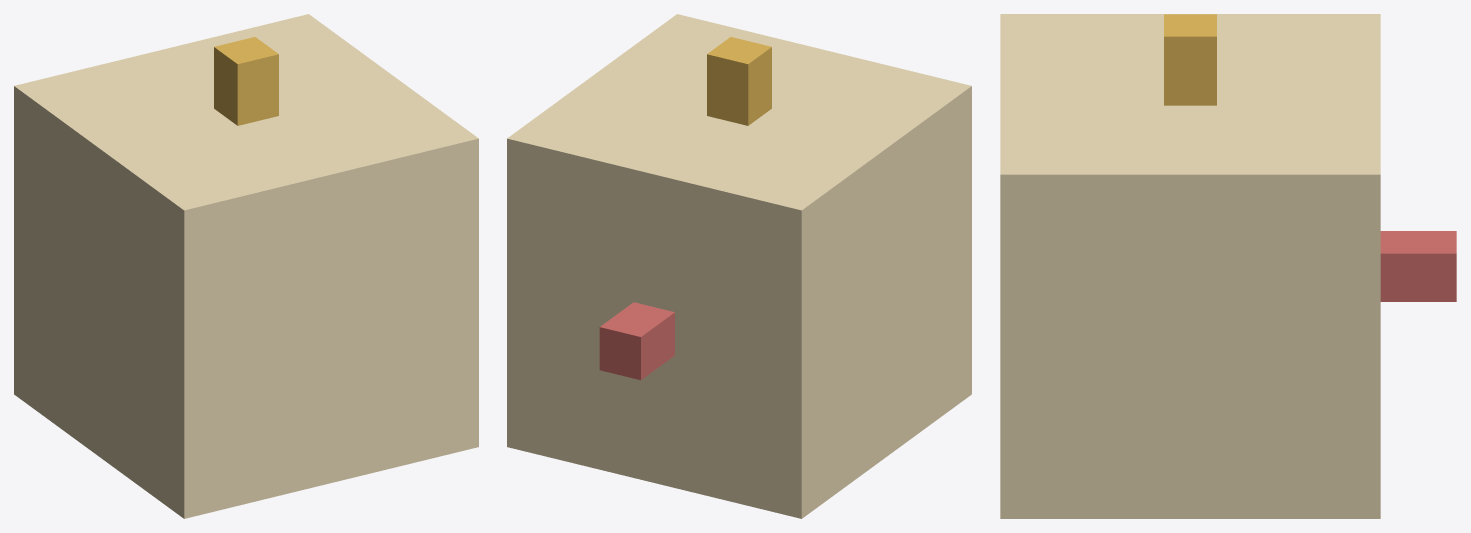
Rendered from SM_CalibrationCube.fbx.
3 views of the same model, side by side, from view 1: azimuth 30°, elevation 25°; view 2: azimuth 150°, elevation 25°; view 3: azimuth 270°, elevation 25° (orthographic). The views are drawn at different scales.
Parts seen in each view (by area): view 1: CalibrationCube, UpMarker; view 2: CalibrationCube, UpMarker, FrontMarker; view 3: CalibrationCube, FrontMarker, UpMarker.
Boxes of the visible parts, x1,y1,x2,y2 form: CalibrationCube: [14, 14, 478, 518]; UpMarker: [214, 37, 278, 125]; CalibrationCube: [507, 14, 971, 518]; UpMarker: [707, 37, 771, 125]; FrontMarker: [599, 302, 674, 380]; CalibrationCube: [1000, 14, 1380, 518]; FrontMarker: [1380, 231, 1456, 301]; UpMarker: [1164, 14, 1216, 105].
Bounding box in the file's own units: 1 × 1.2 × 1.2.
